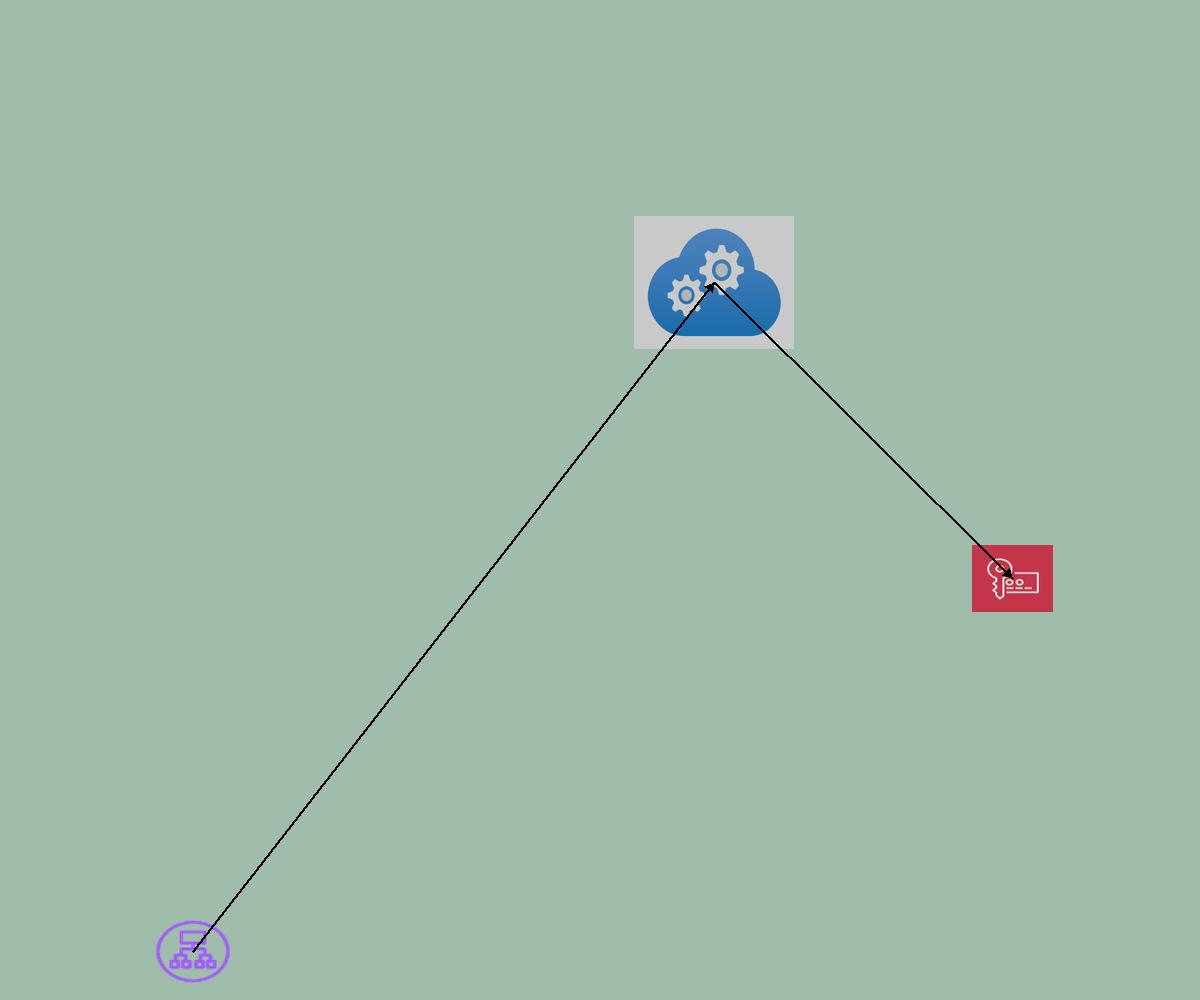AWS-Key-Management-Service: (972, 545, 1053, 612)
AWS-Res_Elastic-Load-Balancing_Application-Load-Balancer: (153, 918, 233, 985)
Azure_cloud_services: (634, 216, 794, 349)
